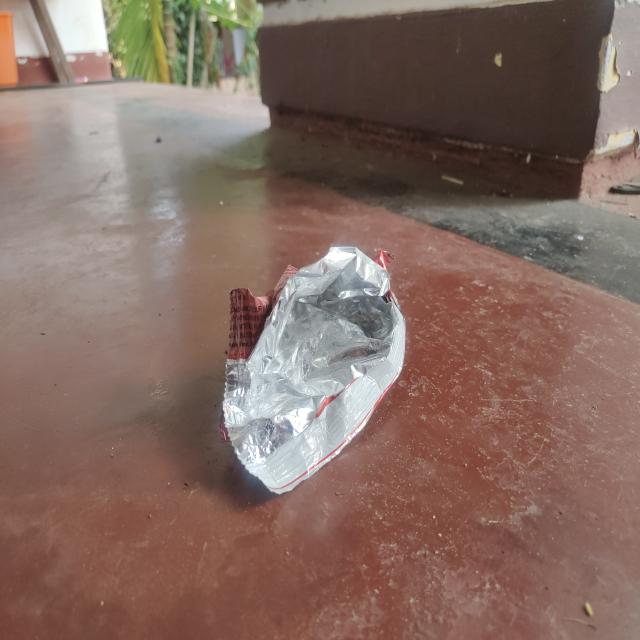plastic: (217, 241, 409, 494)
